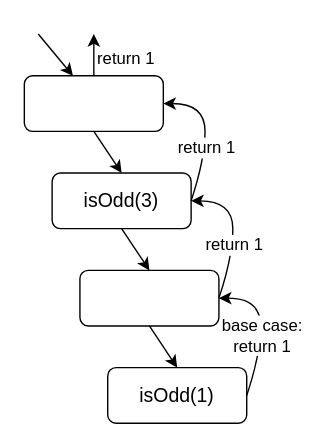
This 325x448 diagram has some shape labels left out. The shapes that lost their labels are listed below. From the top down, each one's centre as x and y in pixels, then its label:
At point (93, 102): "isEven(4)".
At point (149, 297): "isEven(2)".
